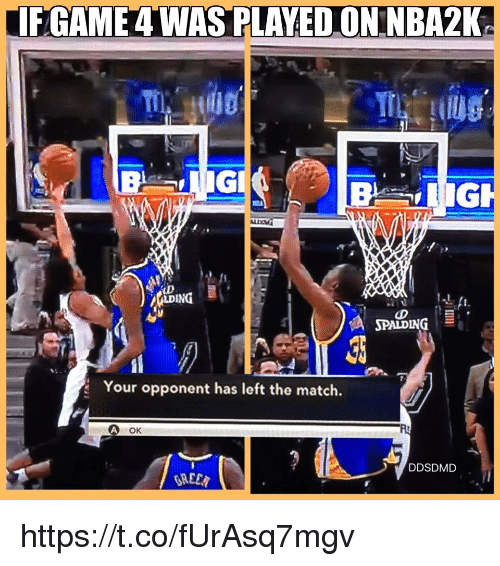ball: (287, 158, 330, 202), (38, 142, 78, 186)
basket: (344, 202, 434, 296), (115, 189, 192, 284)
player: (276, 190, 400, 492), (19, 191, 116, 475), (93, 150, 179, 373)
